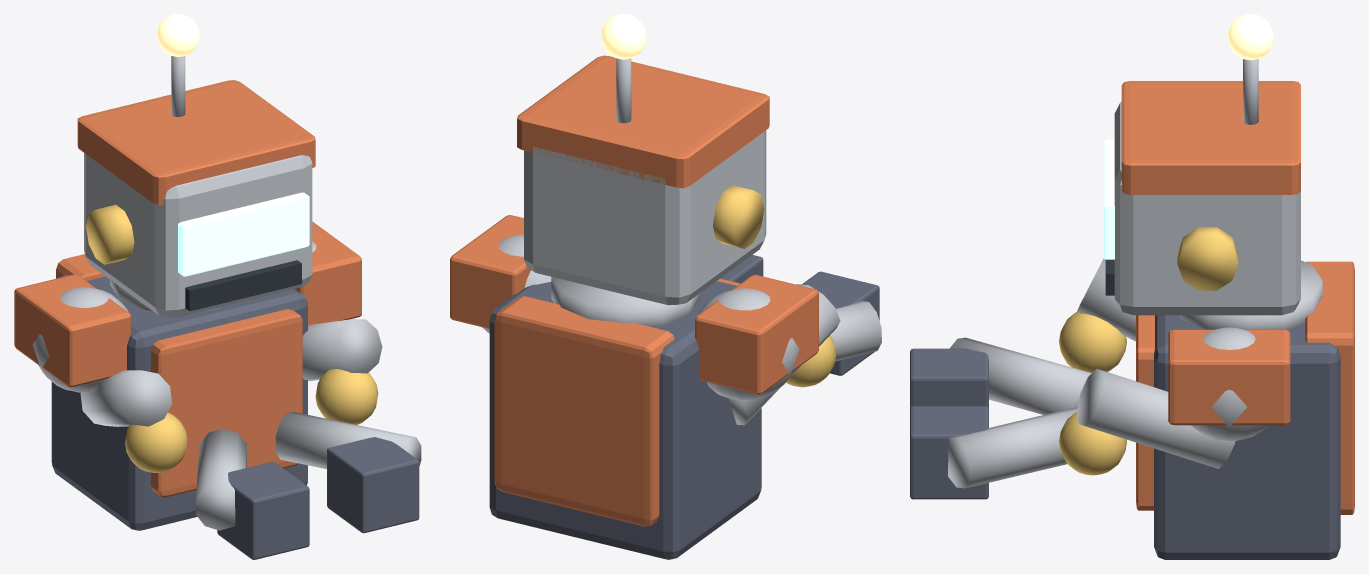
Rendered from driver_robot.glb.
3 renders of one model, left to right at view 1: azimuth 30°, elevation 25°; view 2: azimuth 150°, elevation 25°; view 3: azimuth 270°, elevation 25°, orthographic. The views are drawn at different scales.
Visible parts, largest first — view 1: D_Chest, D_HelmTop, D_Head, D_Torso, D_Pad, D_Glove.001, D_Visor, D_Glove, D_Pad.001, D_Upper, D_Lower.001, D_Upper.001 (+9 smaller); view 2: D_Back, D_Head, D_Torso, D_HelmTop, D_Pad, D_Pad.001, D_Neck, D_Ear, D_Lower, D_Glove, D_Shoulder, D_Bulb (+5 smaller); view 3: D_Torso, D_Head, D_HelmTop, D_Pad.001, D_Upper.001, D_Lower.001, D_Back, D_Glove.001, D_Lower, D_Glove, D_Ear.001, D_Elbow (+8 smaller).
Boxes of the visible parts, x1,y1,x2,y2 form: D_Chest: (151,309,302,497); D_HelmTop: (77,80,315,204); D_Head: (84,153,312,317); D_Torso: (51,274,307,530); D_Pad: (14,274,130,387); D_Glove.001: (327,437,419,533); D_Visor: (178,192,309,276); D_Glove: (217,461,309,559); D_Pad.001: (295,221,361,325); D_Upper: (80,370,172,426); D_Lower.001: (275,412,421,469); D_Upper.001: (302,319,382,381); D_Back: (494,296,674,526); D_Head: (524,130,766,305); D_Torso: (489,281,761,559); D_HelmTop: (517,55,769,188); D_Pad: (695,274,818,394); D_Pad.001: (450,215,530,328); D_Neck: (551,277,699,326); D_Ear: (713,185,764,248); D_Lower: (830,301,881,361); D_Glove: (802,271,879,375); D_Shoulder: (697,288,799,400); D_Bulb: (601,14,646,59); D_Torso: (1154,315,1340,559); D_Head: (1114,101,1300,315); D_HelmTop: (1121,81,1300,194); D_Pad.001: (1168,329,1290,425); D_Upper.001: (1076,368,1235,468); D_Lower.001: (948,407,1077,488); D_Back: (1305,261,1354,514); D_Glove.001: (910,406,988,499); D_Lower: (950,337,1091,414); D_Glove: (910,348,988,408); D_Ear.001: (1177,227,1238,290); D_Elbow: (1059,311,1126,372).
Bounding box in the file's own units: 1.04 × 1.54 × 1.24.
